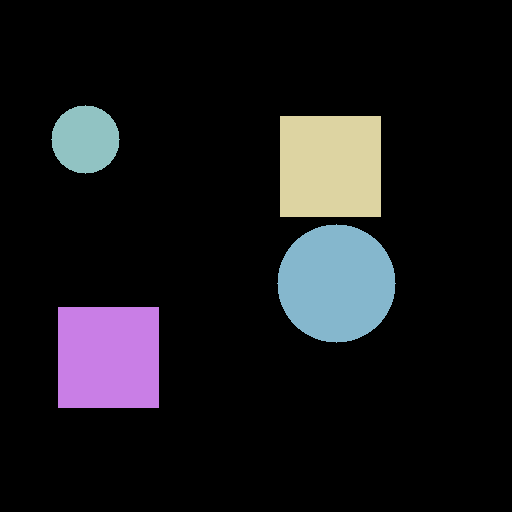circle: (277, 224, 395, 342), (51, 105, 119, 173)
square: (58, 307, 158, 407), (280, 116, 380, 216)
